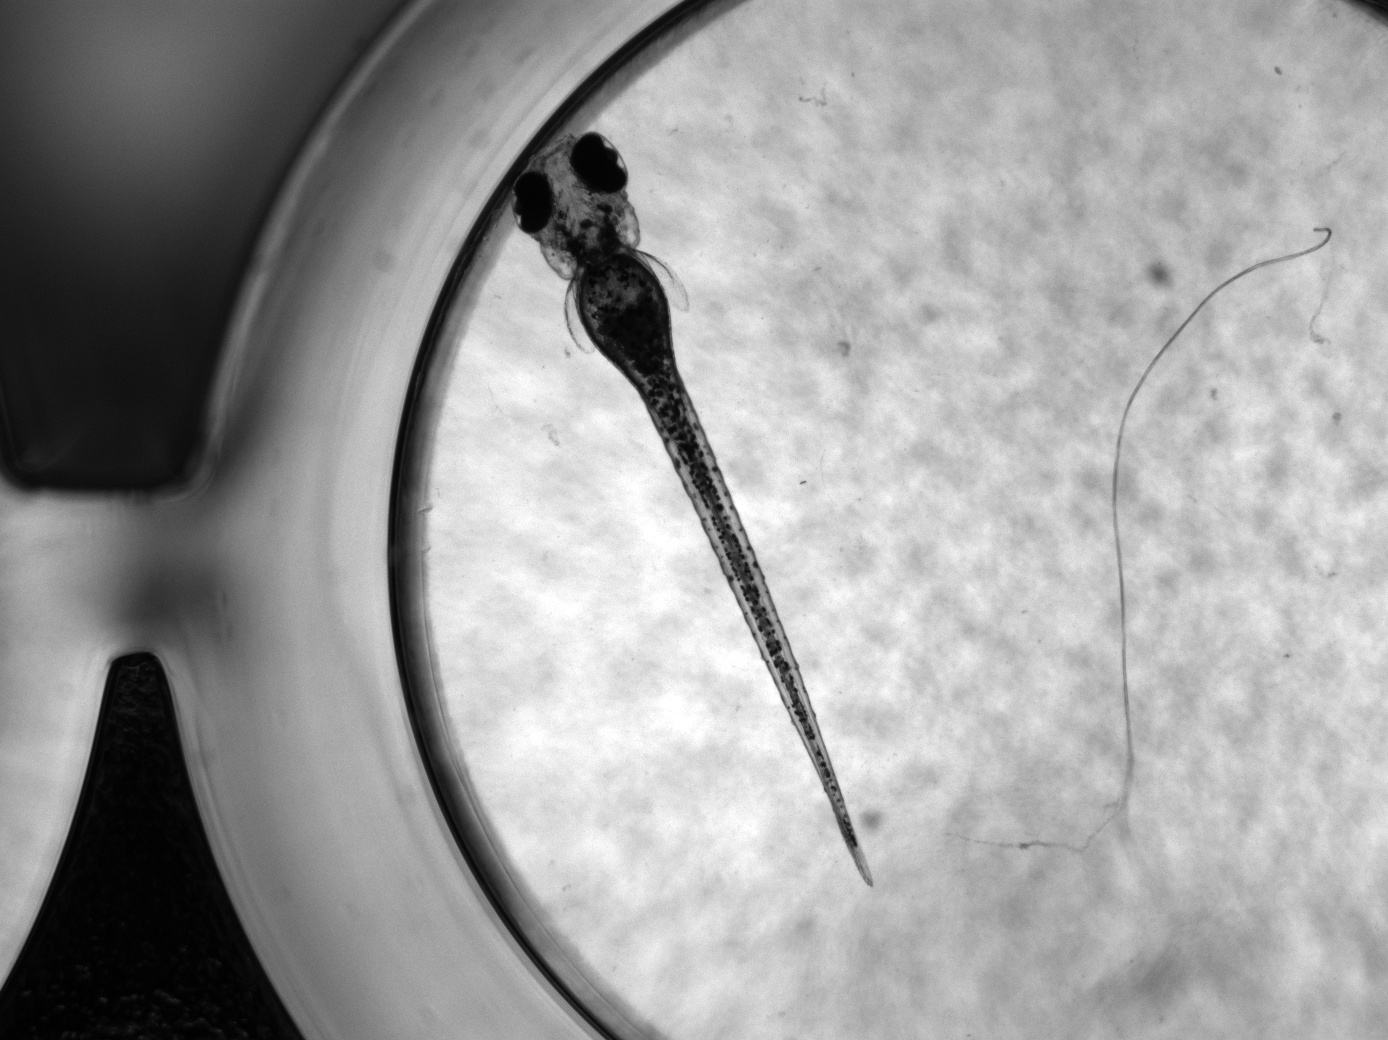debris: (1110, 227, 1330, 819)
embryo: (511, 131, 874, 886)
eye: (569, 131, 628, 194), (510, 169, 554, 234)
yolksac: (577, 253, 672, 369)
